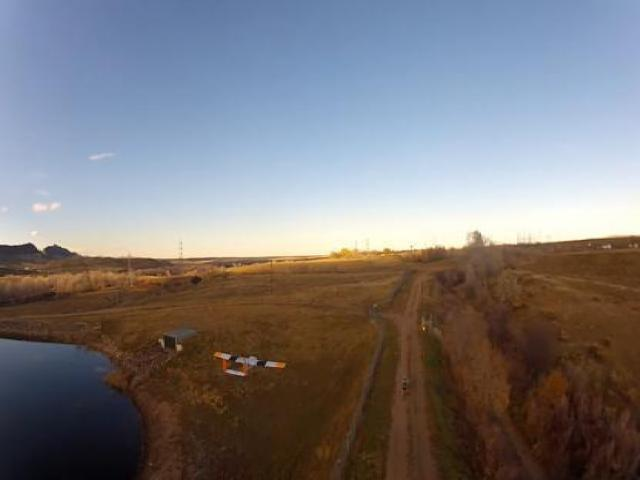uav: (211, 348, 287, 377)
